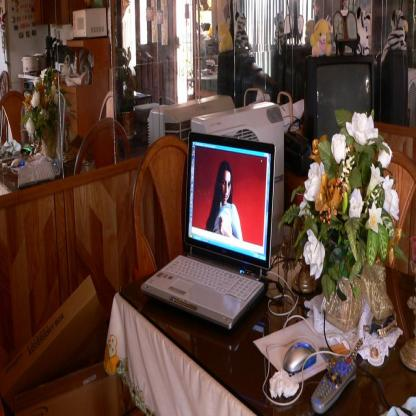board: (146, 111, 278, 348)
